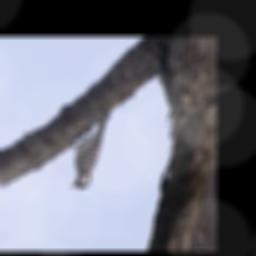Woodpecker: (65, 107, 114, 194)
